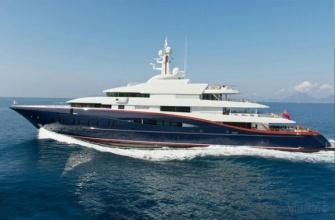yacht: (9, 40, 331, 152)
